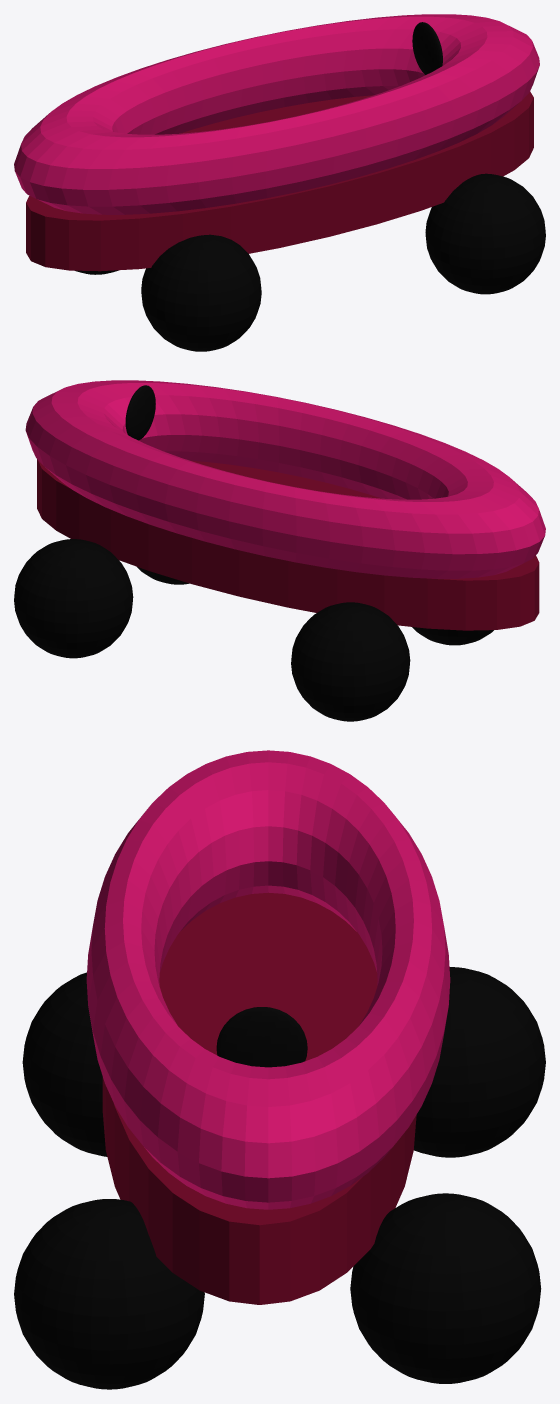
File: DOnut Kart.obj
3 views of the same model, one above another, from view 1: azimuth 30°, elevation 25°; view 2: azimuth 150°, elevation 25°; view 3: azimuth 270°, elevation 25° (orthographic). The views are drawn at different scales.
Parts seen in each view (by area): view 1: Torus, Cylinder_Cylinder.002, Sphere.001, Sphere, Sphere.004; view 2: Torus, Cylinder_Cylinder.002, Sphere.002, Sphere.003, Sphere.004, Sphere; view 3: Torus, Cylinder_Cylinder.002, Sphere.003, Sphere.001, Sphere.002, Sphere, Sphere.004.
Part boxes in pixels (<box>): Torus: <box>14,14,539,214</box>; Cylinder_Cylinder.002: <box>26,91,533,271</box>; Sphere.001: <box>425,173,545,294</box>; Sphere: <box>141,234,261,351</box>; Sphere.004: <box>412,22,442,74</box>; Torus: <box>25,380,545,578</box>; Cylinder_Cylinder.002: <box>37,459,539,630</box>; Sphere.002: <box>291,602,410,721</box>; Sphere.003: <box>14,539,133,658</box>; Sphere.004: <box>125,385,155,440</box>; Sphere: <box>412,627,493,645</box>; Torus: <box>86,750,450,1209</box>; Cylinder_Cylinder.002: <box>102,892,416,1304</box>; Sphere.003: <box>350,1193,541,1383</box>; Sphere.001: <box>14,1199,204,1389</box>; Sphere.002: <box>414,967,545,1157</box>; Sphere: <box>22,972,107,1156</box>; Sphere.004: <box>216,1007,307,1067</box>.
Bounding box in the file's own units: 9.82 × 4.23 × 5.57.
